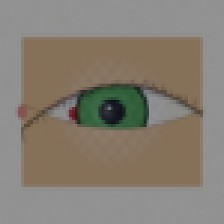hemorrhage_spot: (58, 85, 130, 143)
